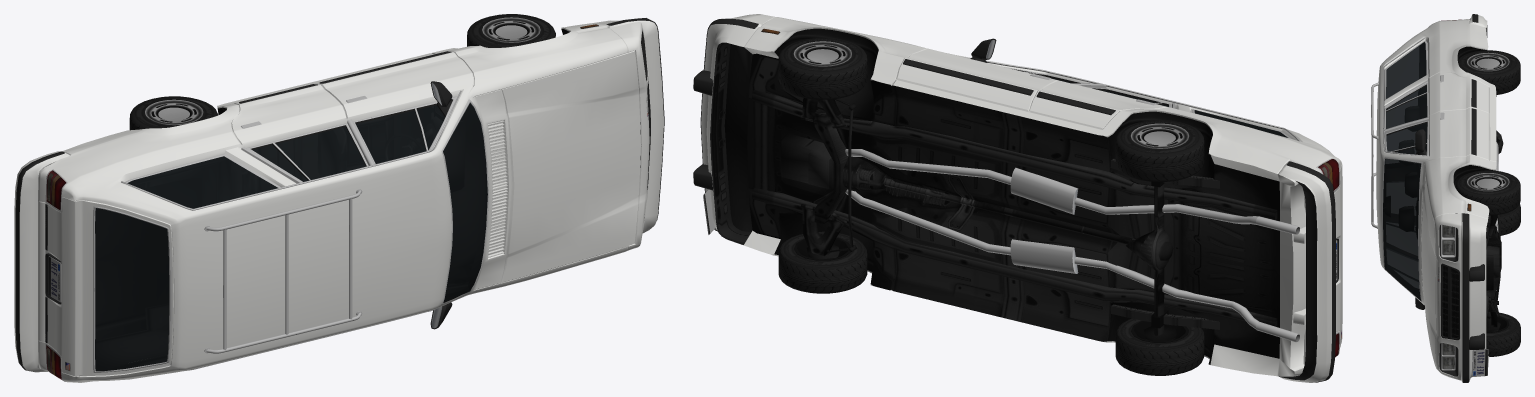
The model's file is model_paint1.gltf.
3 renders of one model, left to right at view 1: azimuth 30°, elevation 25°; view 2: azimuth 150°, elevation 25°; view 3: azimuth 270°, elevation 25°, orthographic. The views are drawn at different scales.
Parts seen in each view (by area): view 1: fairheaven_sw84; view 2: fairheaven_sw84; view 3: fairheaven_sw84.
Part boxes in pixels (box(x1,y1,x2,y2)): fairheaven_sw84: box(14, 14, 664, 382); fairheaven_sw84: box(693, 14, 1342, 382); fairheaven_sw84: box(1371, 14, 1520, 382).
Size of the model in its own units: 5.03 by 1.86 by 1.4.
Materials: 8 (7 with a texture image).
